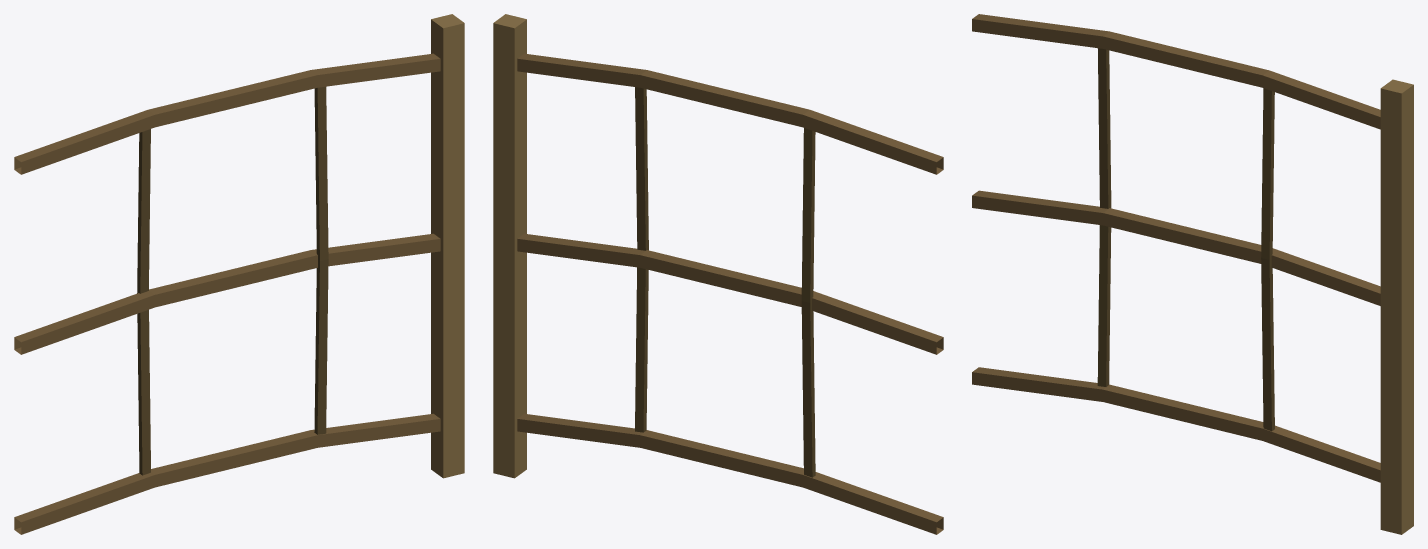
Rendered from Fence_Tourist_B.fbx.
3 renders of one model, left to right at view 1: azimuth 30°, elevation 25°; view 2: azimuth 150°, elevation 25°; view 3: azimuth 330°, elevation 25°, orthographic.
Parts seen in each view (by area): view 1: Fence_Tourist_B; view 2: Fence_Tourist_B; view 3: Fence_Tourist_B.
Boxes of the visible parts, <box> form: Fence_Tourist_B: <box>14,14,464,534</box>; Fence_Tourist_B: <box>493,14,943,534</box>; Fence_Tourist_B: <box>972,14,1413,534</box>.
Bounding box in the file's own units: 103 × 100 × 5.
